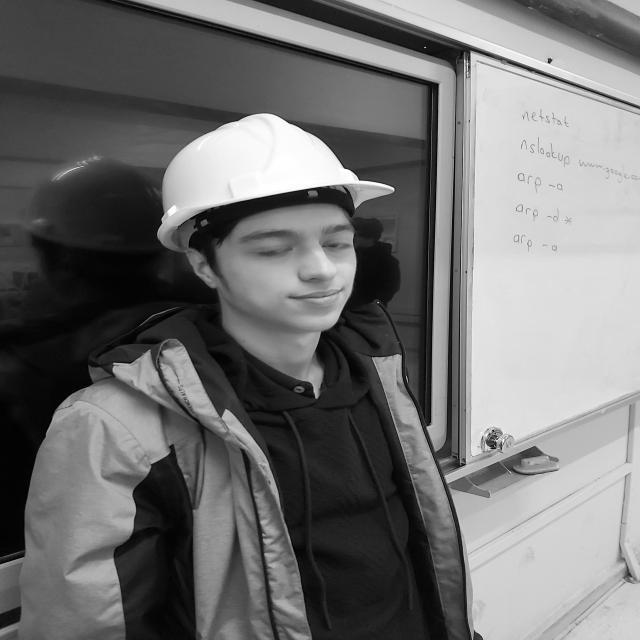safety_helmet: (157, 114, 395, 255)
